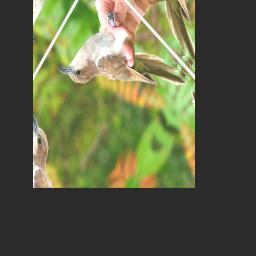Cuckoo: (56, 0, 188, 164)
